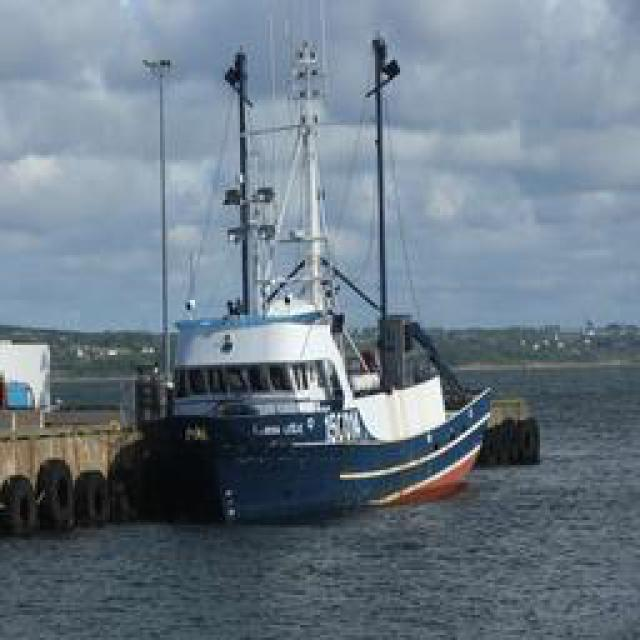Ship: (154, 25, 504, 515)
